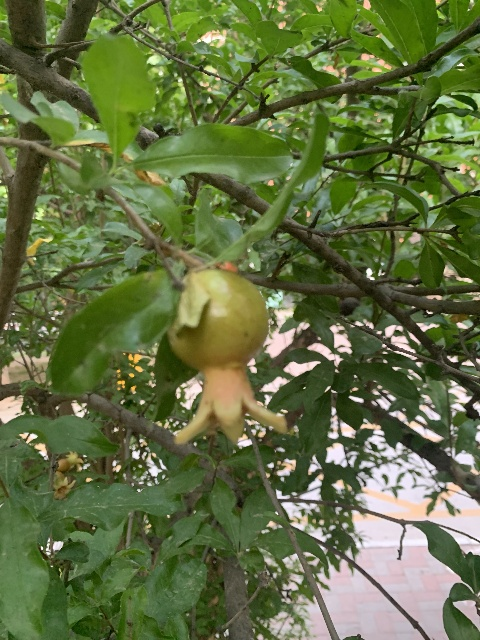mid-growth: (168, 269, 293, 446)
